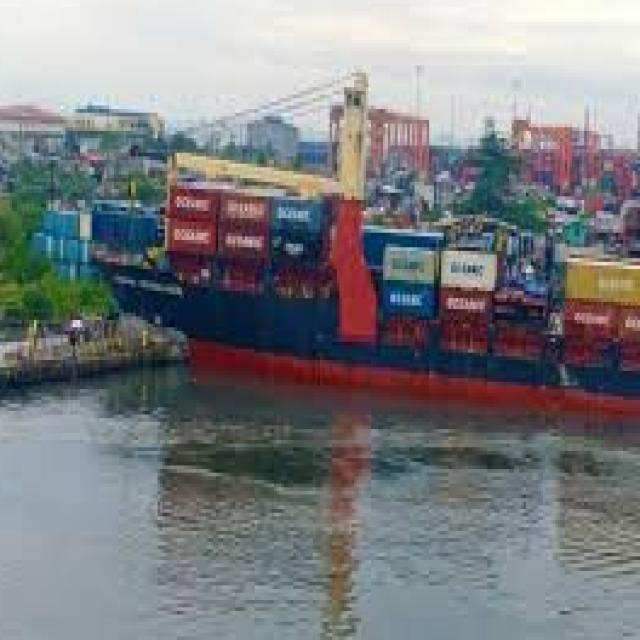cargoship: (99, 138, 640, 418)
